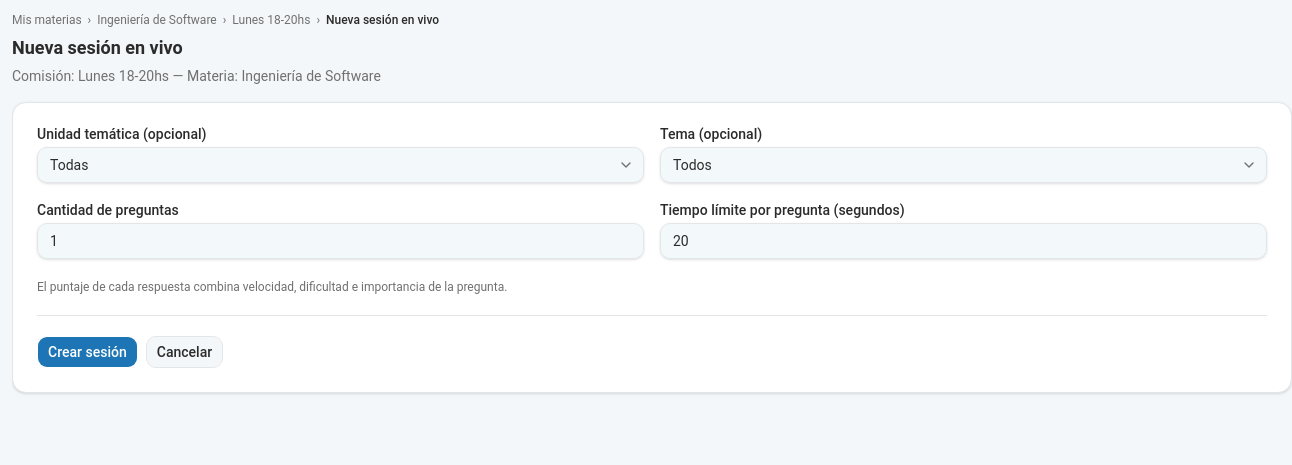
Scenario: NuevaSesionEnVivo › valida tiempo límite 0 en el cliente, sin enviar la request
The width and height of the screenshot is (1292, 465).
Expected: the heading "Nueva sesión en vivo" is shown, [12,37,183,58]
Replace the text in the number field labelled "Tiempo límite por pregunta (segundos)" with "0" at (964, 241), box [660,223,1267,259]
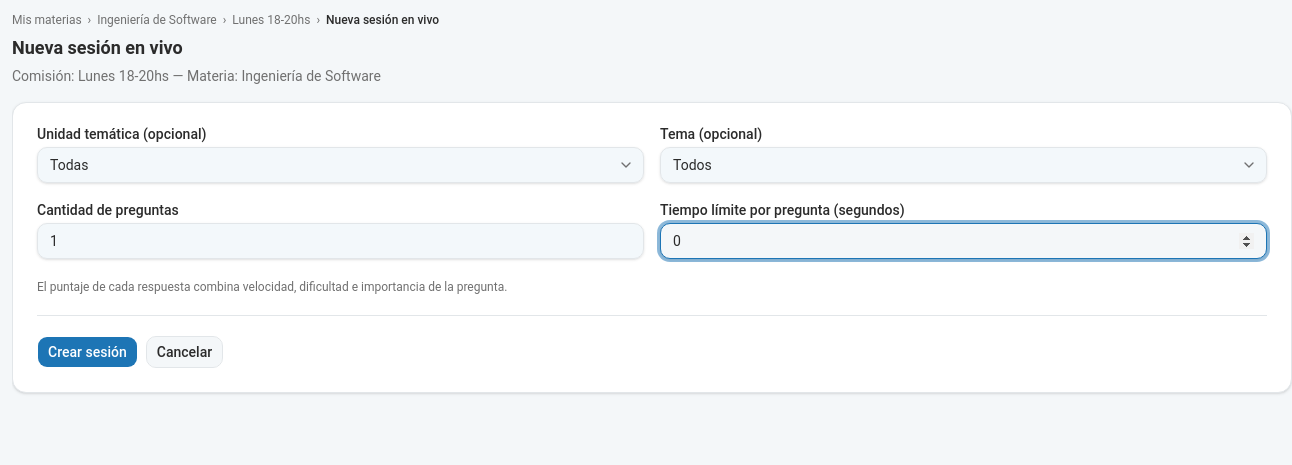
Click the button "Crear sesión".
click(87, 352)  # box [37,336,138,368]
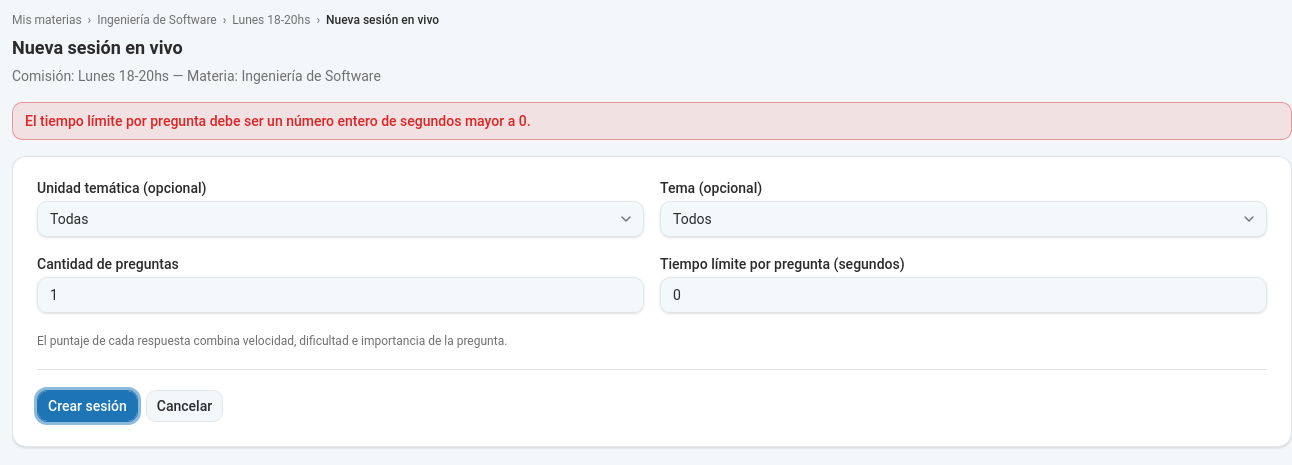
Expected: the message shows "tiempo límite", [25,113,531,129]
